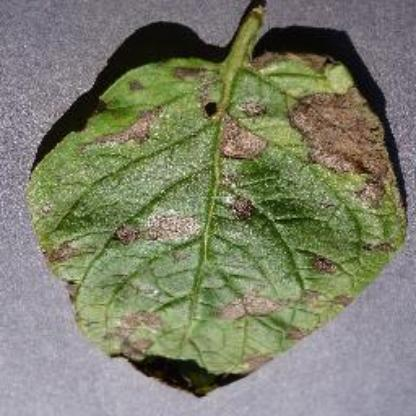Early-Blight: (29, 4, 407, 398)
